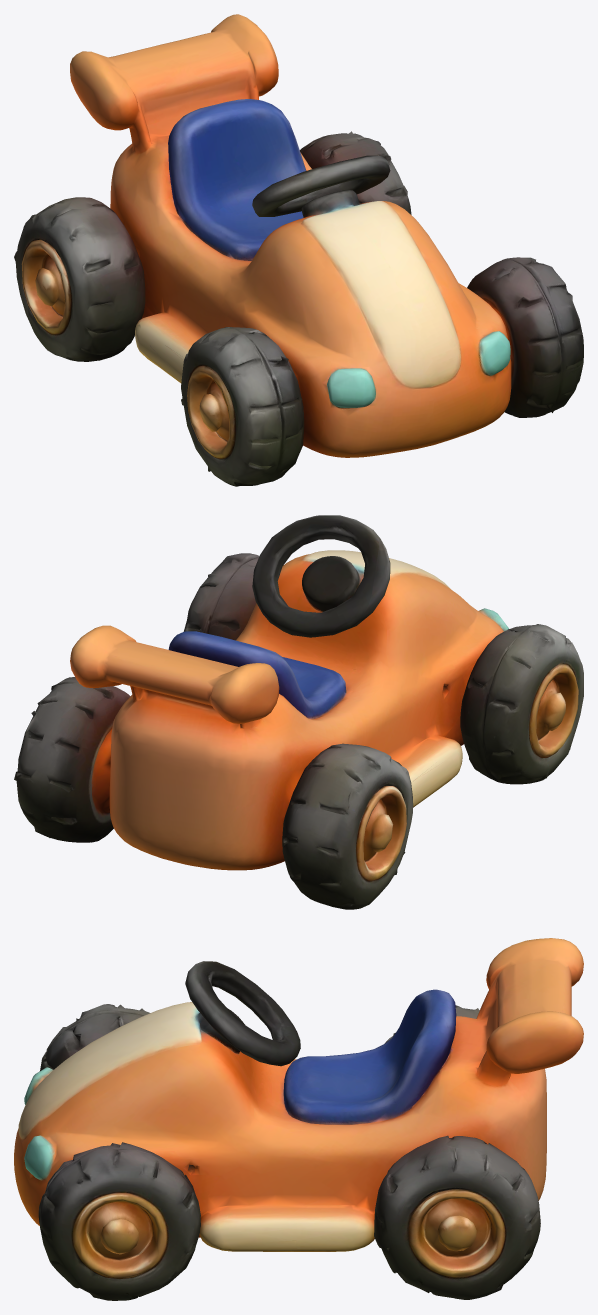
File: racer.glb
3 views of the same model, one above another, from view 1: azimuth 30°, elevation 25°; view 2: azimuth 150°, elevation 25°; view 3: azimuth 270°, elevation 25° (orthographic).
Visible parts, largest first — view 1: tripo_node_63119081-cbc3-49d3-9689-aeb6b0c9e622; view 2: tripo_node_63119081-cbc3-49d3-9689-aeb6b0c9e622; view 3: tripo_node_63119081-cbc3-49d3-9689-aeb6b0c9e622.
Boxes of the visible parts, left/top/right/bottom form: tripo_node_63119081-cbc3-49d3-9689-aeb6b0c9e622: left=14, top=14, right=583, bottom=486; tripo_node_63119081-cbc3-49d3-9689-aeb6b0c9e622: left=14, top=515, right=583, bottom=909; tripo_node_63119081-cbc3-49d3-9689-aeb6b0c9e622: left=14, top=938, right=583, bottom=1300.
Bounding box in the file's own units: 0.7159 × 0.4833 × 0.9798.
Materials: 1 (1 with a texture image).
